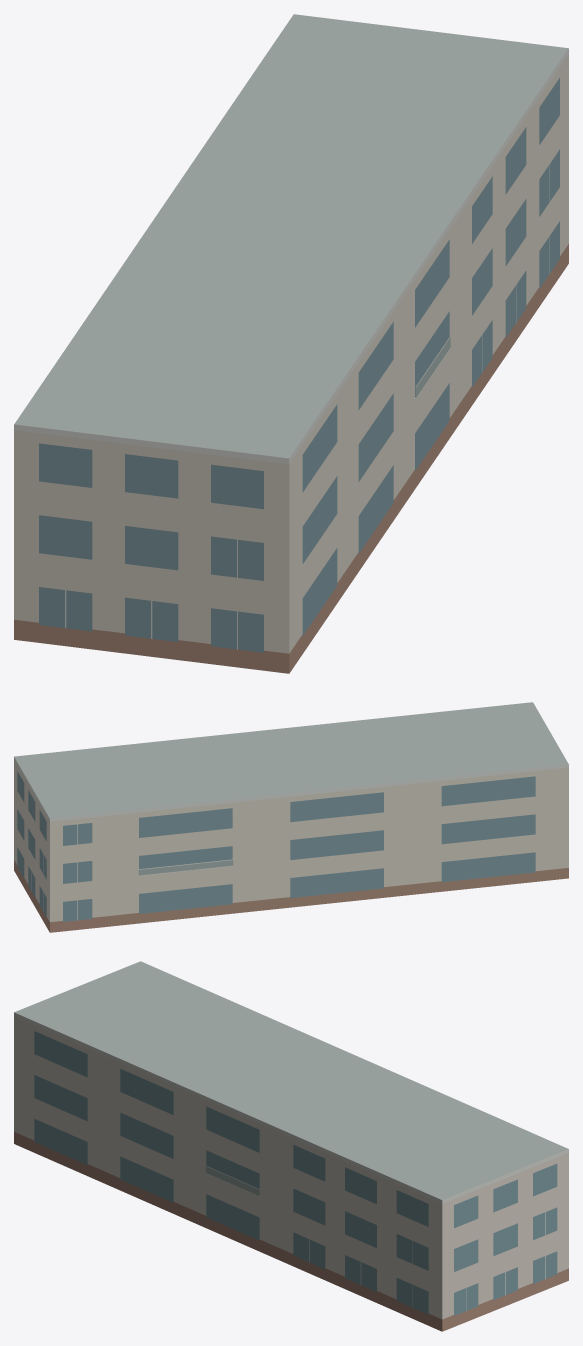
Rendered from survey-upis-32778337.glb.
3 renders of one model, top to bottom at view 1: azimuth 30°, elevation 25°; view 2: azimuth 150°, elevation 25°; view 3: azimuth 270°, elevation 25°, orthographic. The views are drawn at different scales.
Visible parts, largest first — view 1: survey-upis-32778337.tmp; view 2: survey-upis-32778337.tmp; view 3: survey-upis-32778337.tmp.
Part boxes in pixels (x1,y1,x2,y2): survey-upis-32778337.tmp: (14, 14, 568, 673); survey-upis-32778337.tmp: (14, 702, 568, 932); survey-upis-32778337.tmp: (14, 961, 568, 1331).
Size of the model in its own units: 35.65 by 9.15 by 34.98.
